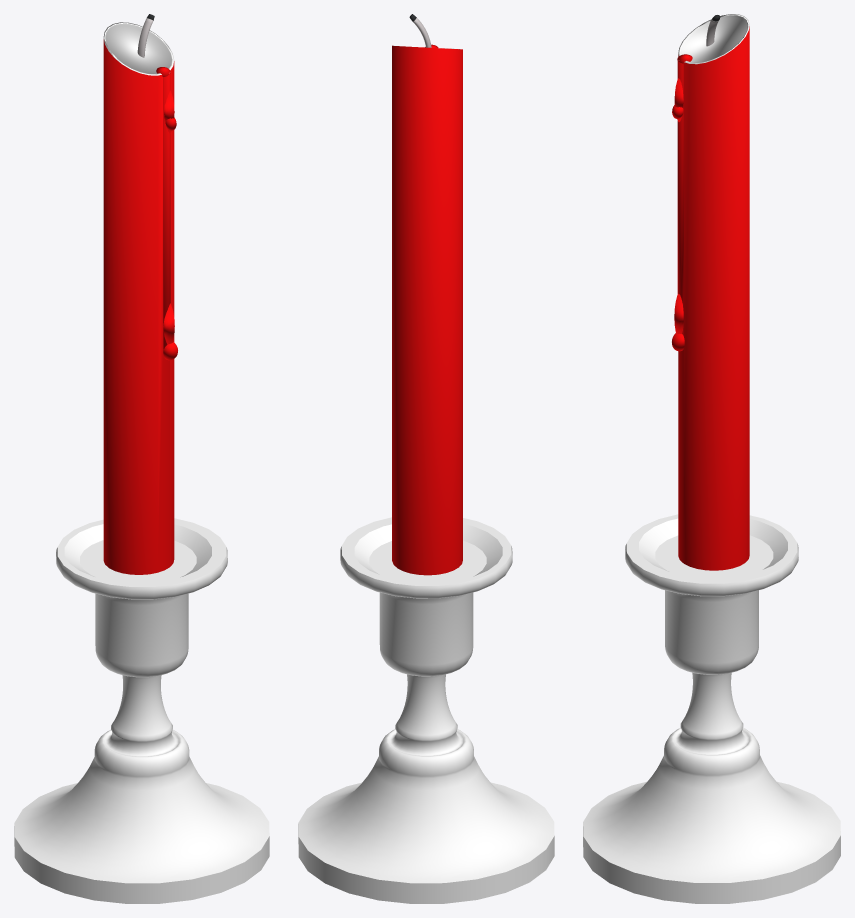
The model's file is candle_melting.obj.
3 renders of one model, left to right at view 1: azimuth 30°, elevation 25°; view 2: azimuth 150°, elevation 25°; view 3: azimuth 270°, elevation 25°, orthographic.
Parts seen in each view (by area): view 1: Mesh8 Candlestick1 Model; view 2: Mesh8 Candlestick1 Model; view 3: Mesh8 Candlestick1 Model.
Part boxes in pixels (x1,y1,x2,y2): Mesh8 Candlestick1 Model: [14, 22, 269, 903]; Mesh8 Candlestick1 Model: [298, 45, 554, 903]; Mesh8 Candlestick1 Model: [583, 14, 840, 903].
Bounding box in the file's own units: 182 × 654 × 182.
